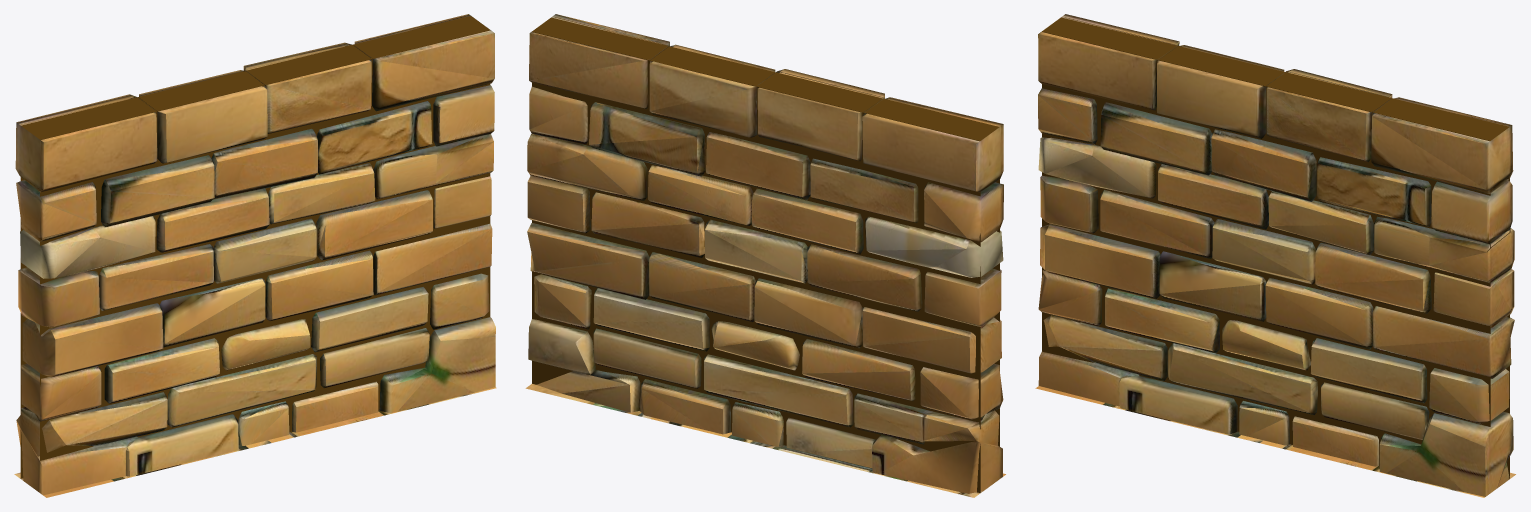
The model's file is wall-stone-half.glb.
The picture shows the model from 3 angles, left to right: view 1: azimuth 30°, elevation 25°; view 2: azimuth 150°, elevation 25°; view 3: azimuth 330°, elevation 25°; orthographic projection.
Size of the model in its own units: 2 by 1.5 by 0.25.
1 material, 1 textured.
